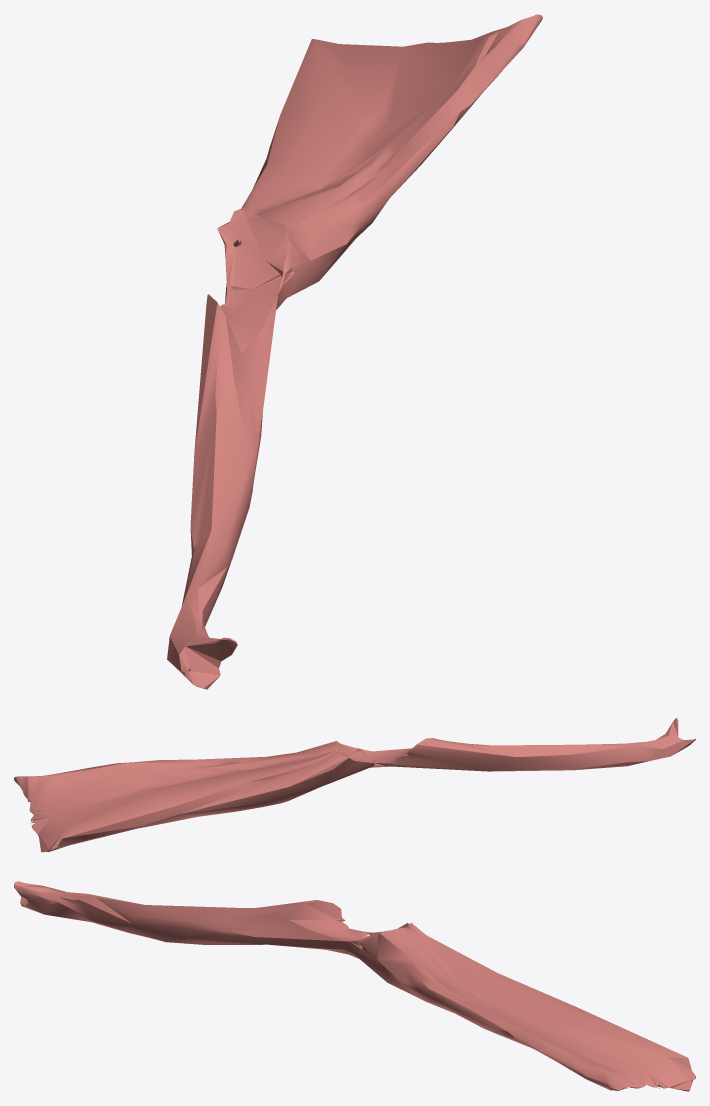
The model's file is fma37463_fj1390.glb.
3 renders of one model, top to bottom at view 1: azimuth 30°, elevation 25°; view 2: azimuth 150°, elevation 25°; view 3: azimuth 270°, elevation 25°, orthographic. The views are drawn at different scales.
Visible parts, largest first — view 1: FMA37463_FJ1390; view 2: FMA37463_FJ1390; view 3: FMA37463_FJ1390.
Boxes of the visible parts, left/top/right/bottom form: FMA37463_FJ1390: left=167, top=14, right=542, bottom=689; FMA37463_FJ1390: left=14, top=718, right=695, bottom=852; FMA37463_FJ1390: left=14, top=881, right=695, bottom=1091.
Bounding box in the file's own units: 0.0932 × 0.016 × 0.1091.
